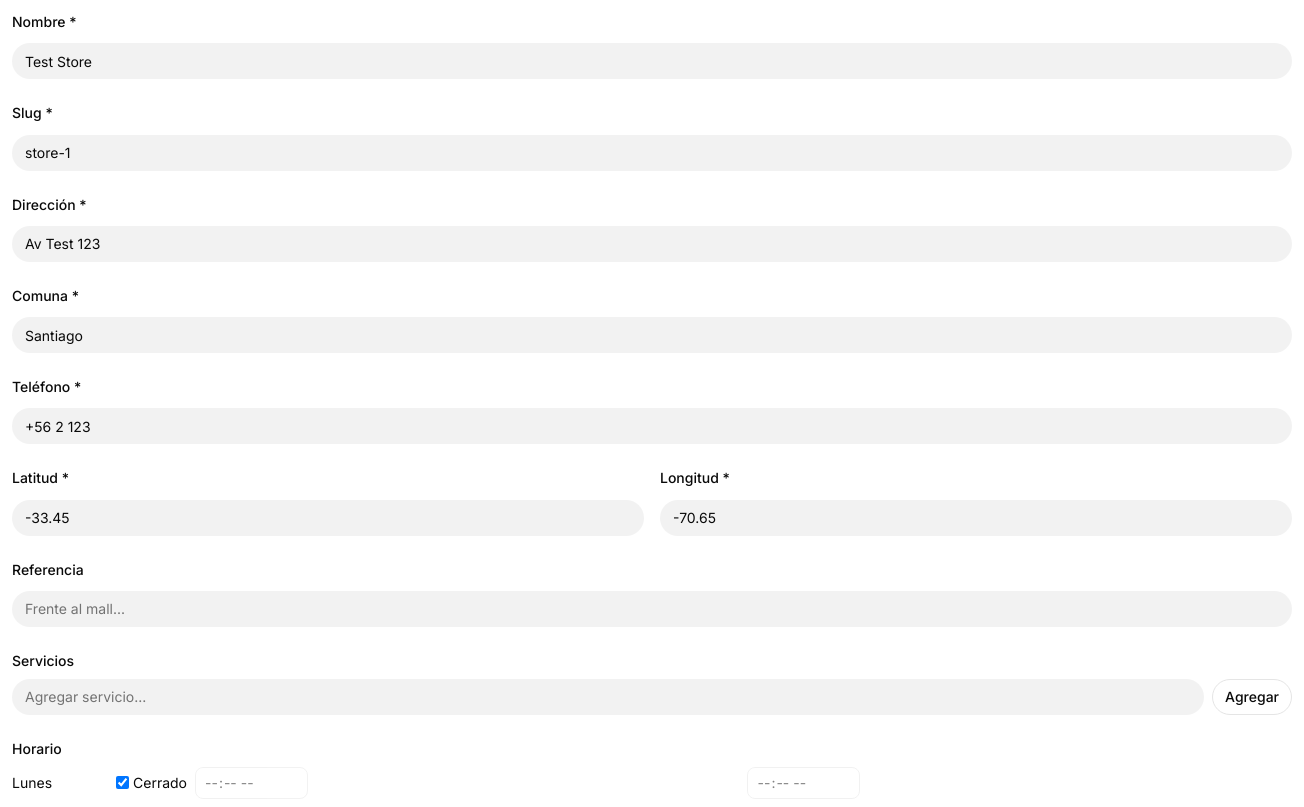
StoreForm › schedule editor — enabling closed day restores default 09:00–18:00 (S13)
Click the checkbox labelled "Cerrado".
click(122, 783)  # box [116,776,129,789]
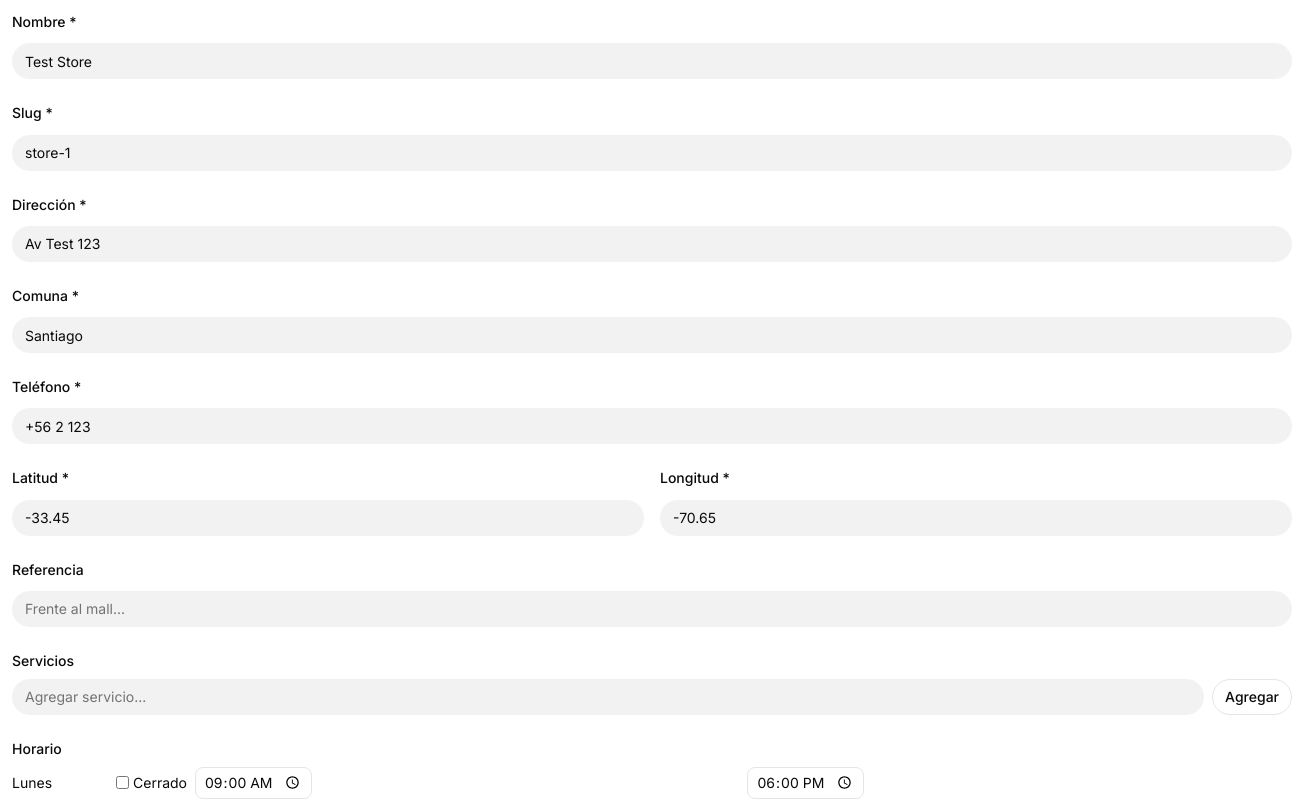
Result: the checkbox labelled "Cerrado" is not checked at [116,776,129,789]
Result: the 1st time field showing "09:00" is shown at [195,767,312,799]
